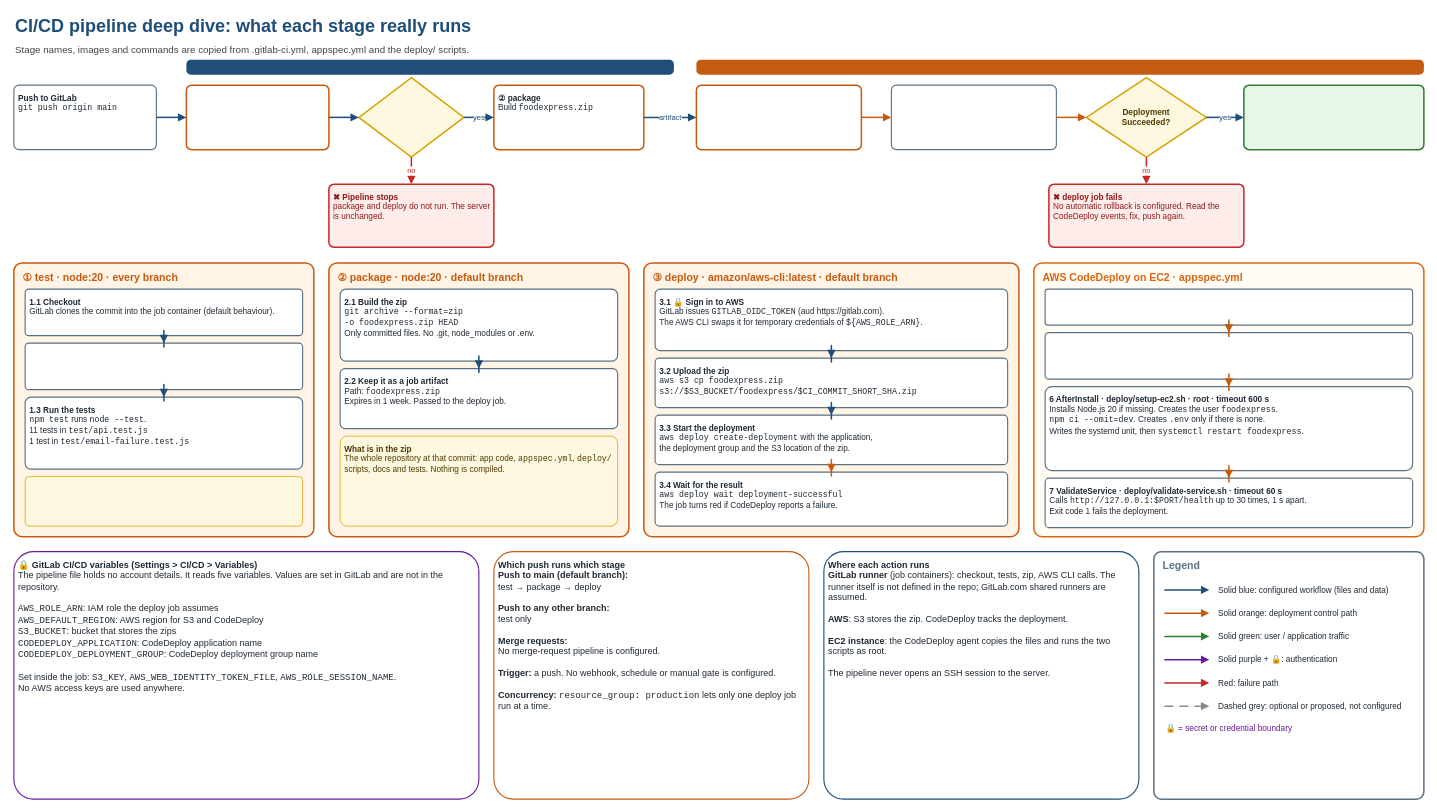
Image size: 1437x812. Some labels were removed from this diagram. The shapes that lost their labels are listed below. From the top down, each one's centre as x and y in pixels, then its label:
At point (430, 66): "Continuous Integration (stages 1 and 2)".
At point (1060, 66): "Continuous Deployment (stage 3 and AWS CodeDeploy)".
At point (257, 117): "① test npm ci , npm test".
At point (411, 117): "Tests pass?".
At point (778, 117): "③ deploy Upload zip, start CodeDeploy, wait for the result".
At point (973, 117): "CodeDeploy on EC2 Install, set up, restart, health check".
At point (1333, 117): "✔ Pipeline green The new version is live on the server.".
At point (1228, 306): "4 DownloadBundle The agent downloads the zip from S3.".
At point (163, 366): "1.2 Install dependencies npm ci installs exactly what package-lock.json lists.".
At point (1228, 355): "5 Install Files are copied to /opt/foodexpress . file_exists_behavior: OVERWRITE".
At point (163, 501): "Not configured No lint, code-quality or security-scan job exists.".
